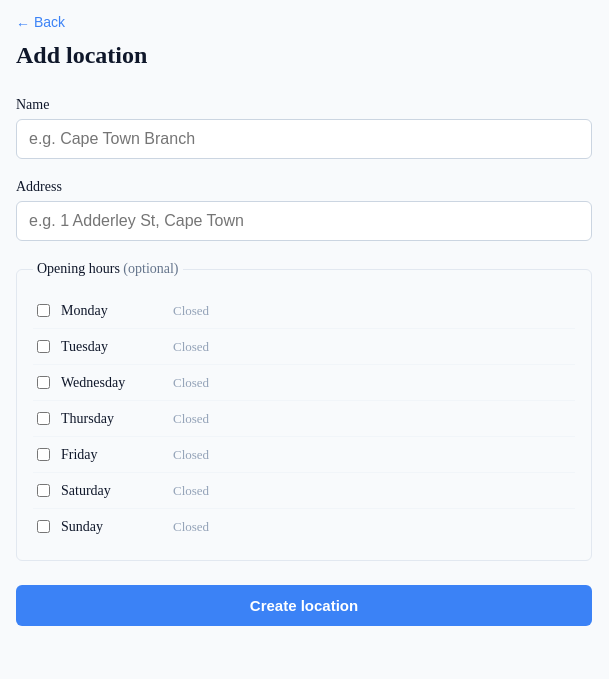
Test: AddLocationView › shows api error message on failed submit
Type "Main Branch" into the field with test id "name-input".
click(304, 139); type("Main Branch")  # box [16, 119, 592, 159]
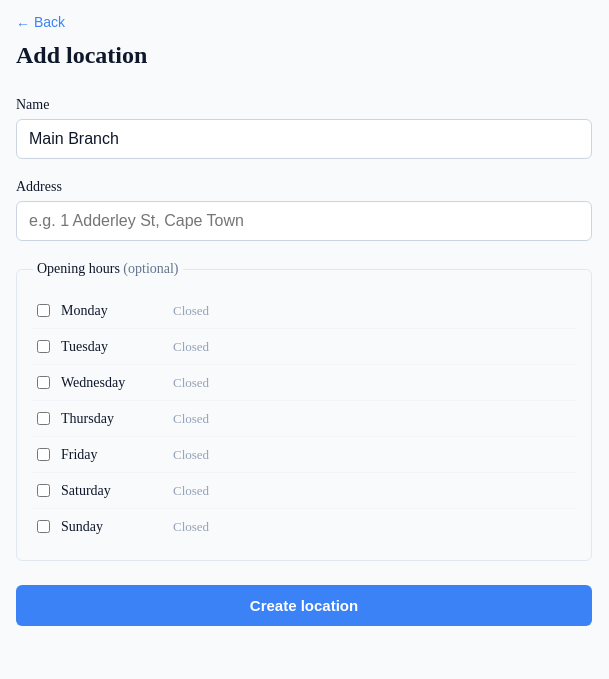
Type "123 Main St" into the field with test id "address-input".
click(304, 221); type("123 Main St")  # box [16, 201, 592, 241]
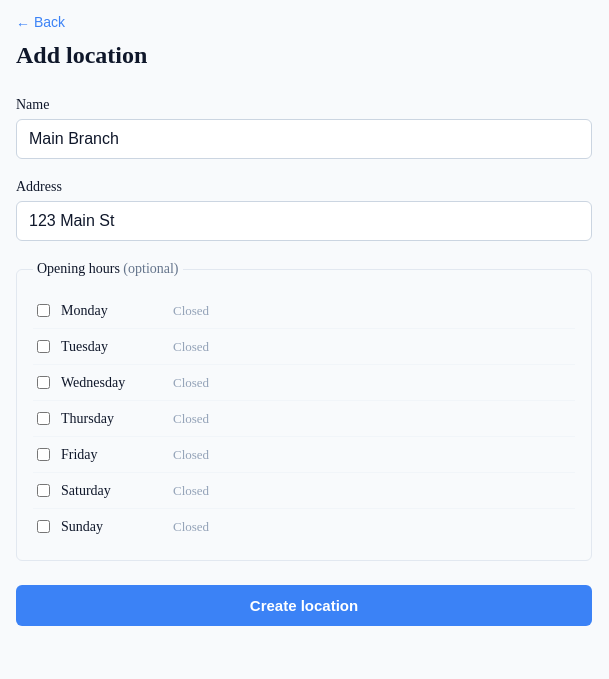
Submit the form with test id "add-location-form"
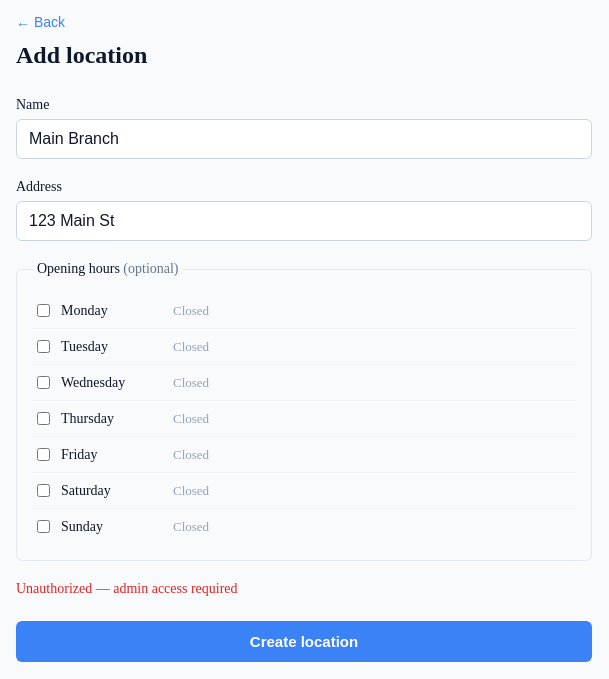
Result: the text with test id "api-error" shows "Unauthorized" at [16, 581, 238, 596]
